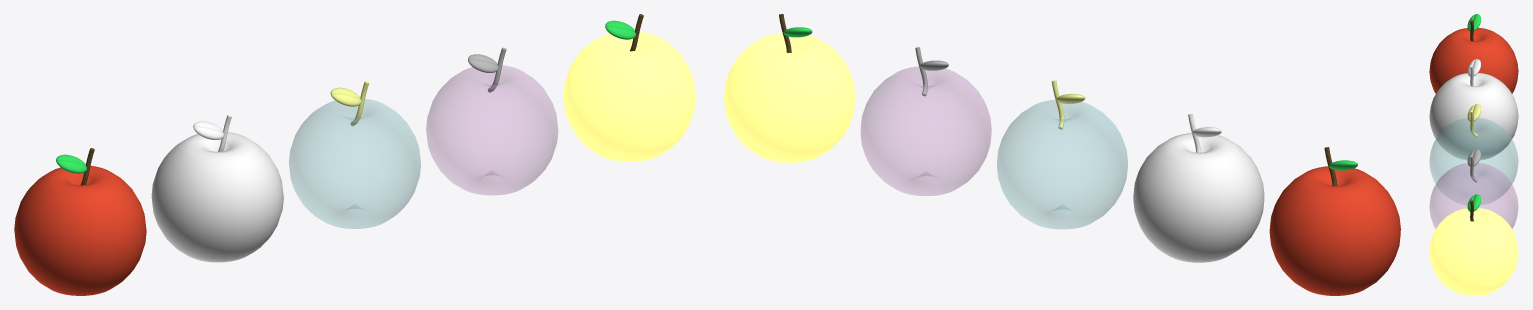
Rendered from apple-placeholder.glb.
The picture shows the model from 3 angles, left to right: view 1: azimuth 30°, elevation 25°; view 2: azimuth 150°, elevation 25°; view 3: azimuth 270°, elevation 25°; orthographic projection. The views are drawn at different scales.
Visible parts, largest first — view 1: Sphere.002, Sphere, Sphere.008, Sphere.004, Sphere.006, Sphere.005; view 2: Sphere.008, Sphere, Sphere.002, Sphere.006, Sphere.004; view 3: Sphere.008, Sphere.002, Sphere.004, Sphere, Sphere.006, Sphere.009, Sphere.005, Sphere.007, Sphere.001, Sphere.003, BezierCurve.003, BezierCurve.002 (+3 smaller).
Boxes of the visible parts, box(x1,y1,x2,y2) form: Sphere.002: box(151, 132, 283, 262); Sphere: box(14, 165, 146, 295); Sphere.008: box(563, 31, 695, 161); Sphere.004: box(289, 99, 420, 228); Sphere.006: box(426, 65, 557, 195); Sphere.005: box(330, 87, 361, 106); Sphere.008: box(724, 33, 855, 162); Sphere: box(1269, 166, 1400, 295); Sphere.002: box(1133, 133, 1264, 262); Sphere.006: box(861, 66, 991, 195); Sphere.004: box(997, 100, 1127, 228); Sphere.008: box(1429, 208, 1518, 295); Sphere.002: box(1429, 73, 1518, 160); Sphere.004: box(1429, 118, 1518, 204); Sphere: box(1429, 27, 1518, 93); Sphere.006: box(1429, 163, 1518, 228); Sphere.009: box(1467, 194, 1480, 211); Sphere.005: box(1467, 104, 1480, 121); Sphere.007: box(1467, 149, 1480, 166); Sphere.001: box(1467, 14, 1480, 31); Sphere.003: box(1467, 59, 1480, 76); BezierCurve.003: box(1470, 155, 1477, 182); BezierCurve.002: box(1470, 110, 1477, 137).
Bounding box in the file's own units: 1.24 × 0.2405 × 0.2146.
